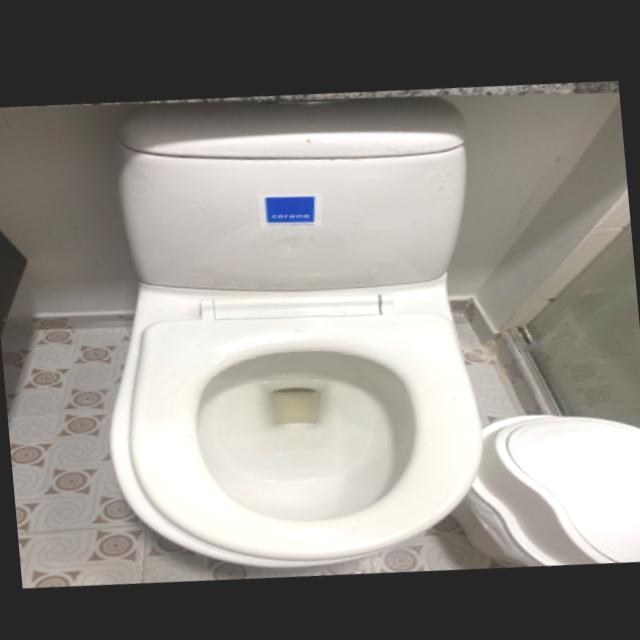toilet: (80, 74, 502, 587)
